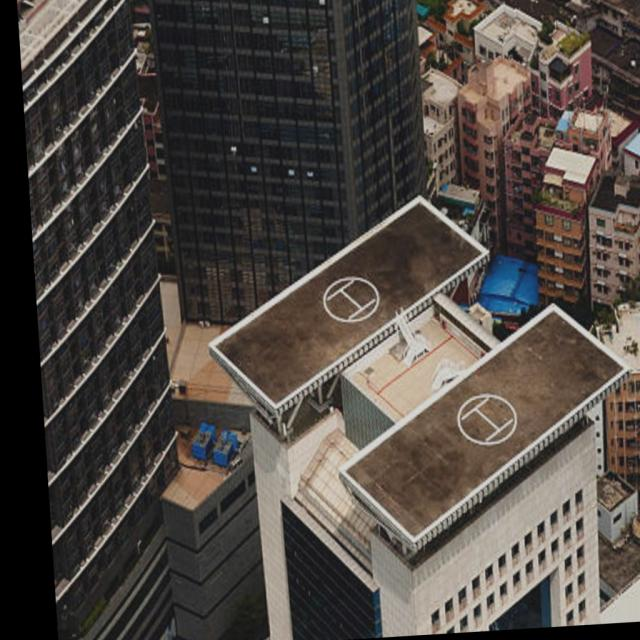helipad: (454, 390, 520, 447), (319, 273, 382, 323)
